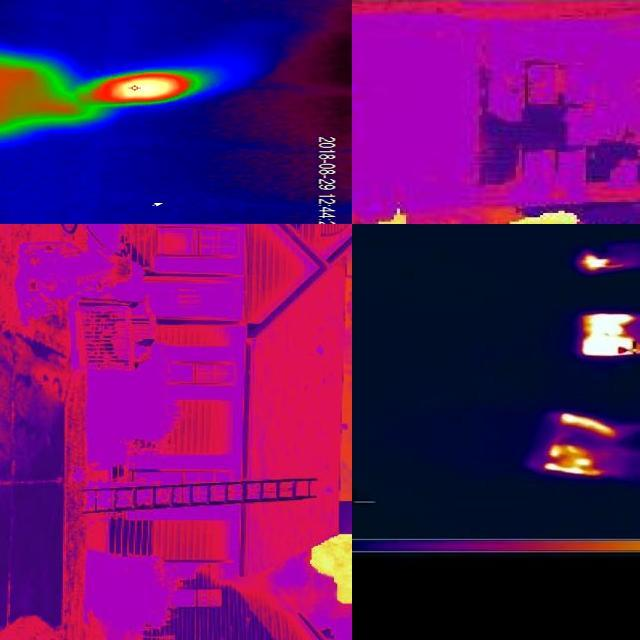fire: (380, 184, 581, 225), (82, 72, 210, 106), (297, 534, 353, 610), (579, 313, 640, 360), (546, 443, 614, 479), (555, 412, 625, 440), (579, 253, 623, 272)
